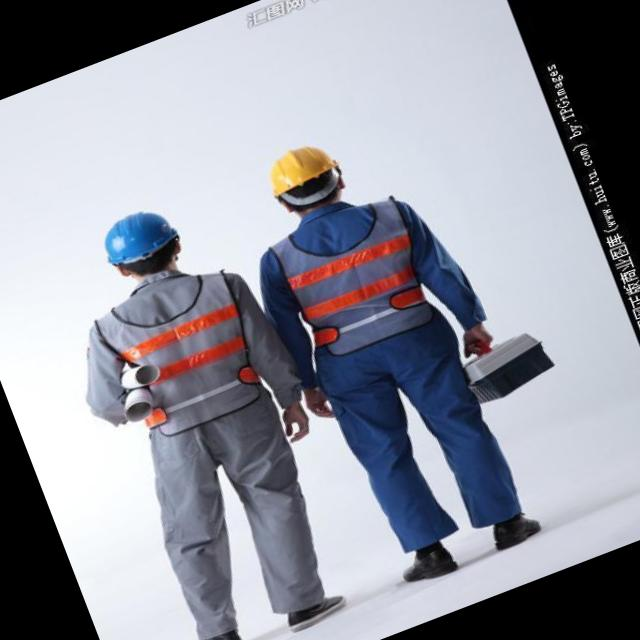hard_hat: (254, 131, 364, 230), (88, 195, 196, 283)
safety_vest: (81, 252, 282, 456), (256, 180, 455, 378)
vehicle: (203, 90, 575, 610), (11, 149, 387, 640)
work_boots: (385, 524, 472, 598), (272, 573, 362, 640), (481, 499, 554, 559), (179, 618, 257, 640)
